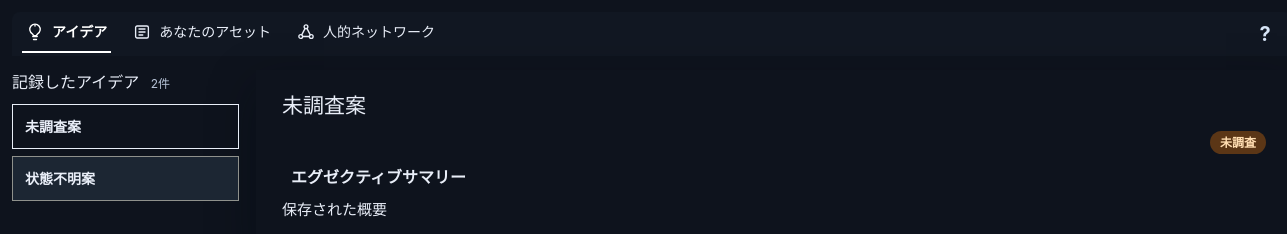
Scenario: shows draft and unknown research states without inferring completion from a brief
Expected: the number of elements with class "local-home__status-badge" is 1, x1=1210 y1=131 x2=1266 y2=154
Click the button with class "local-home__idea-select" showing "状態不明案" at (126, 178), box x1=13 y1=157 x2=238 y2=200
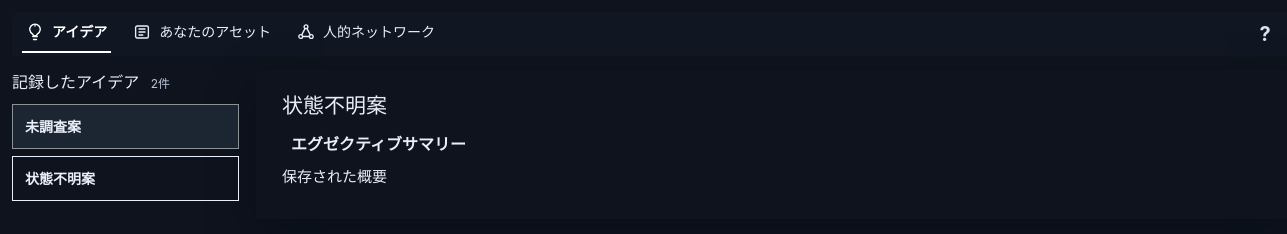
Expected: the text "保存された概要" is shown, x1=282 y1=167 x2=387 y2=186
Now the element with class "local-home__detail-status-row" is gone
